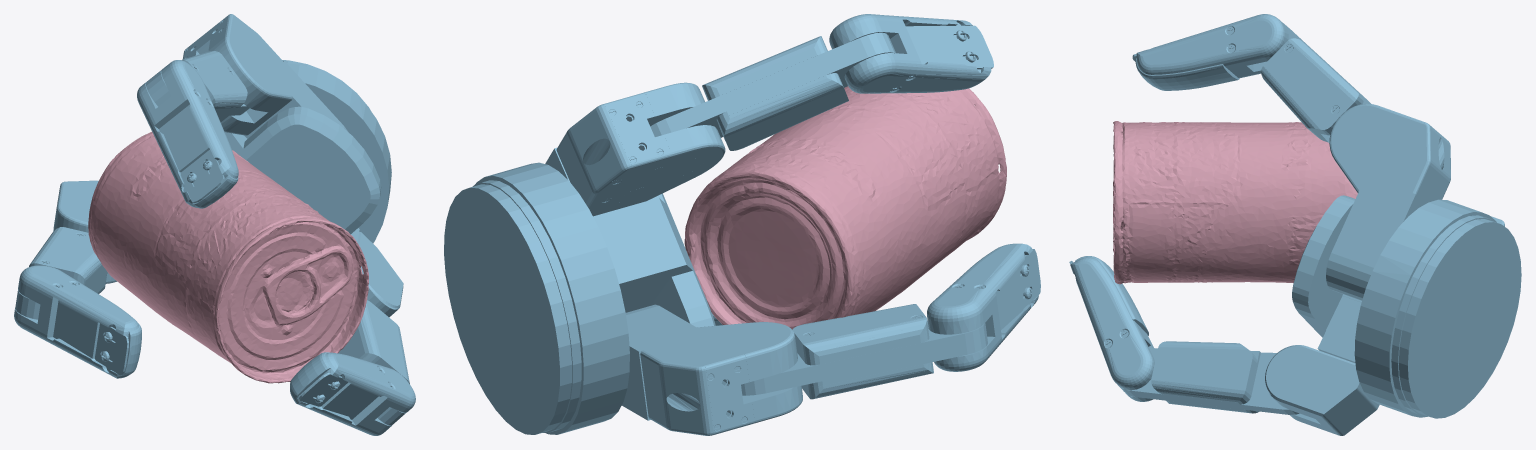
3 renders of one model, left to right at view 1: azimuth 30°, elevation 25°; view 2: azimuth 150°, elevation 25°; view 3: azimuth 270°, elevation 25°, orthographic. The views are drawn at different scales.
Visible parts, largest first — view 1: world, tomato_soup_can.stl; view 2: world, tomato_soup_can.stl; view 3: world, tomato_soup_can.stl.
Boxes of the visible parts, <box> form: world: <box>14,14,415,435</box>; tomato_soup_can.stl: <box>88,131,368,383</box>; world: <box>444,14,1040,435</box>; tomato_soup_can.stl: <box>684,86,1006,329</box>; world: <box>1069,14,1521,435</box>; tomato_soup_can.stl: <box>1113,121,1357,284</box>.
Bounding box in the file's own units: 0.1853 × 0.1485 × 0.1866.
